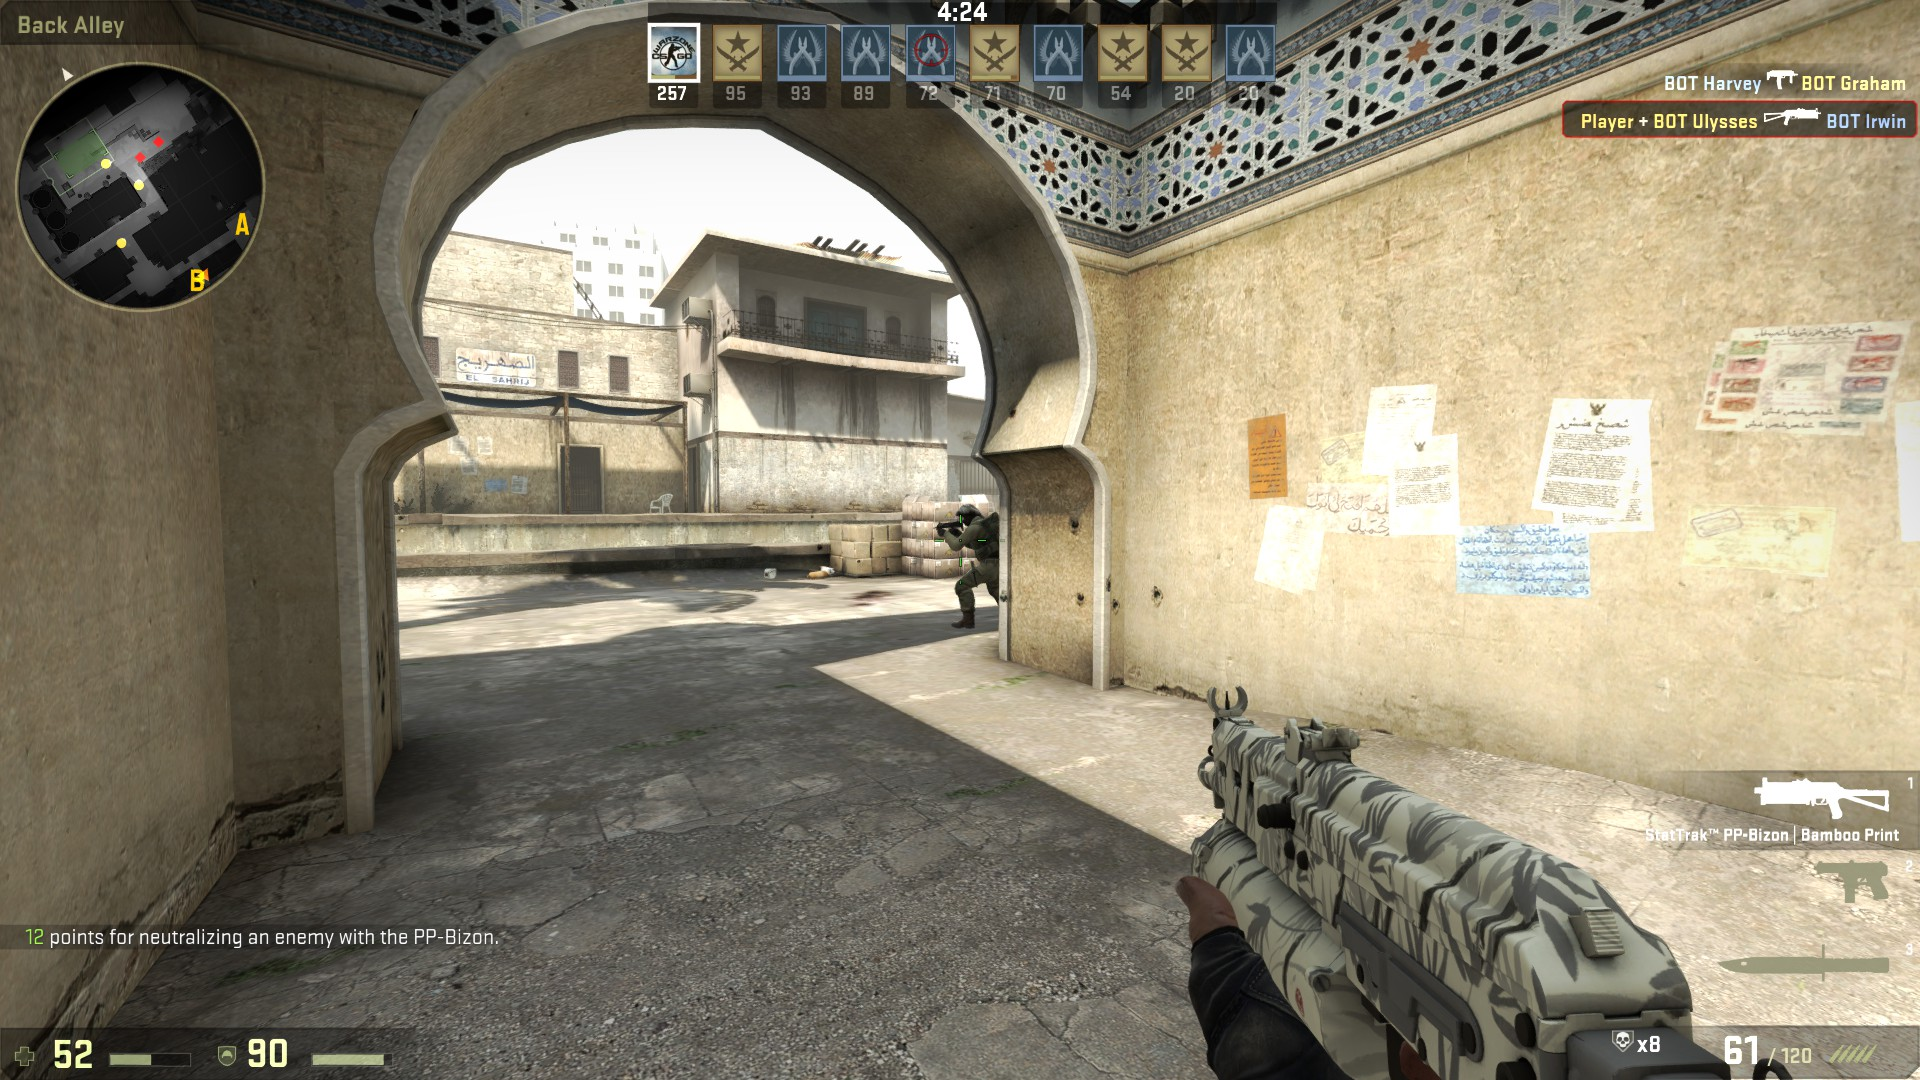c: (944, 504, 1000, 630)
ch: (955, 502, 981, 526)
